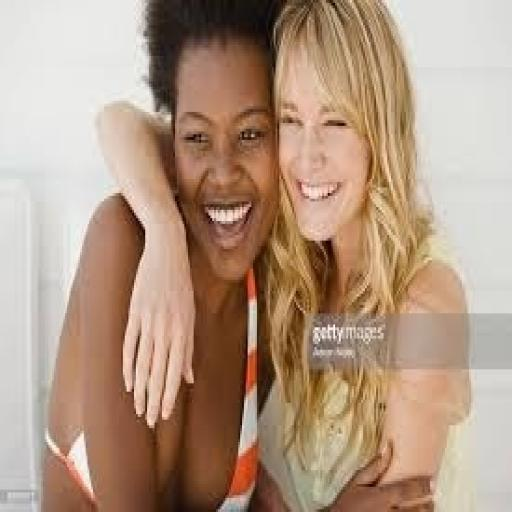laughing: (37, 0, 474, 506)
